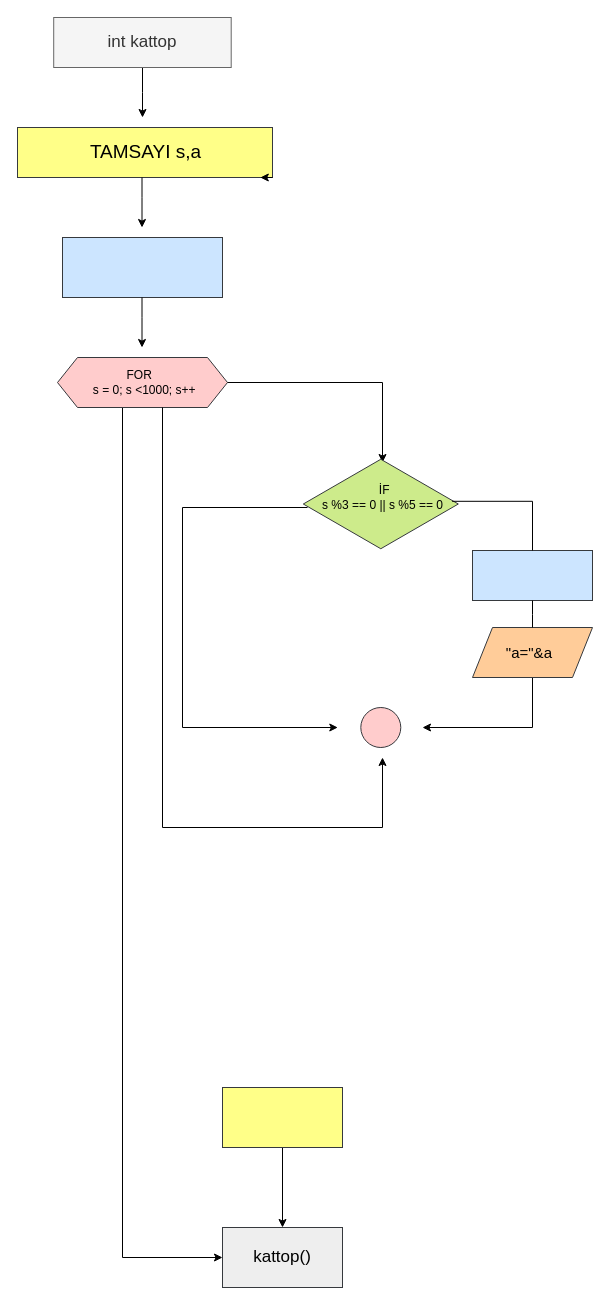
The diagram is 610 pixels wide and 1305 high, and some of its shapes have lost their labels. The centre of each missing label's shape, as x and y in pixels:
a = 0: the point at 142,267
a = a + s: the point at 532,575
int main(): the point at 282,1117
